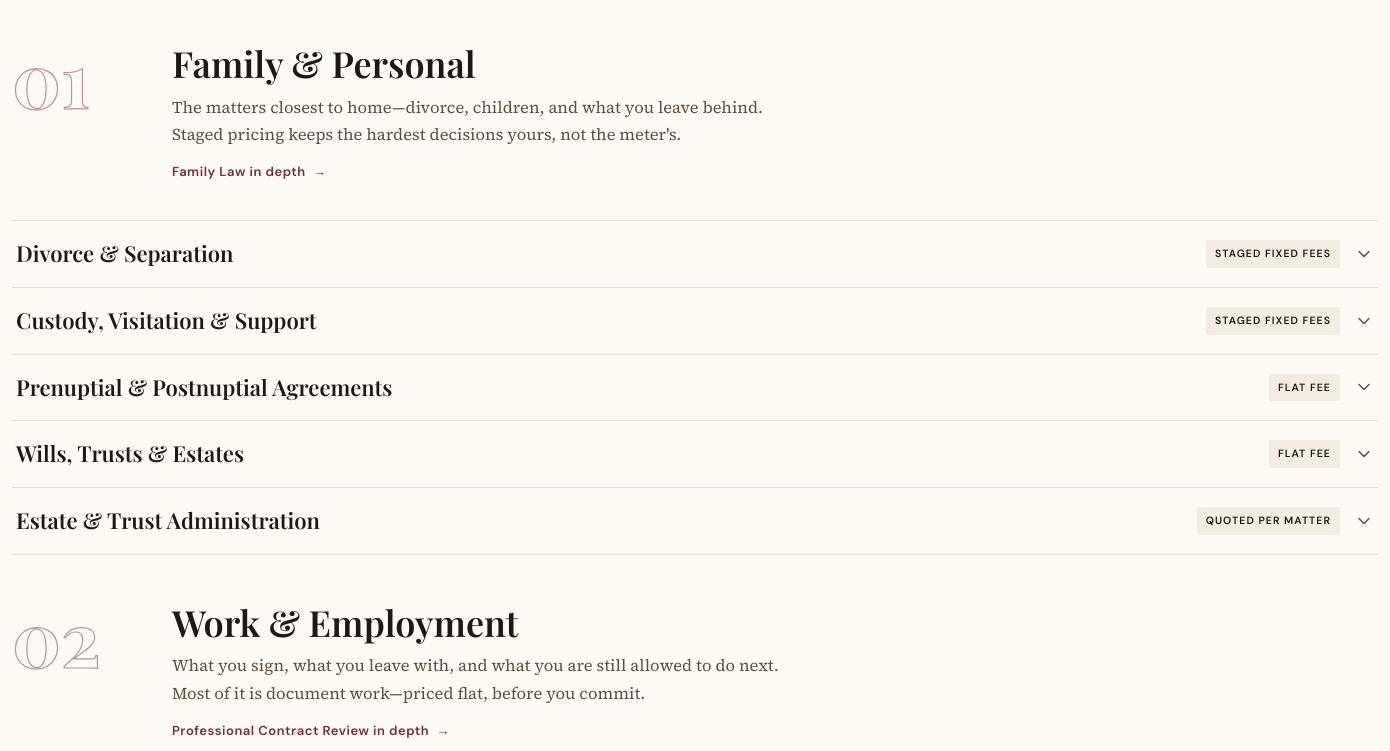
Test case: PracticeDirectory › expands a service on click and collapses it on the second click
Click the button "Divorce & Separation Staged fixed fees": (125, 253) [12,221,1378,287]
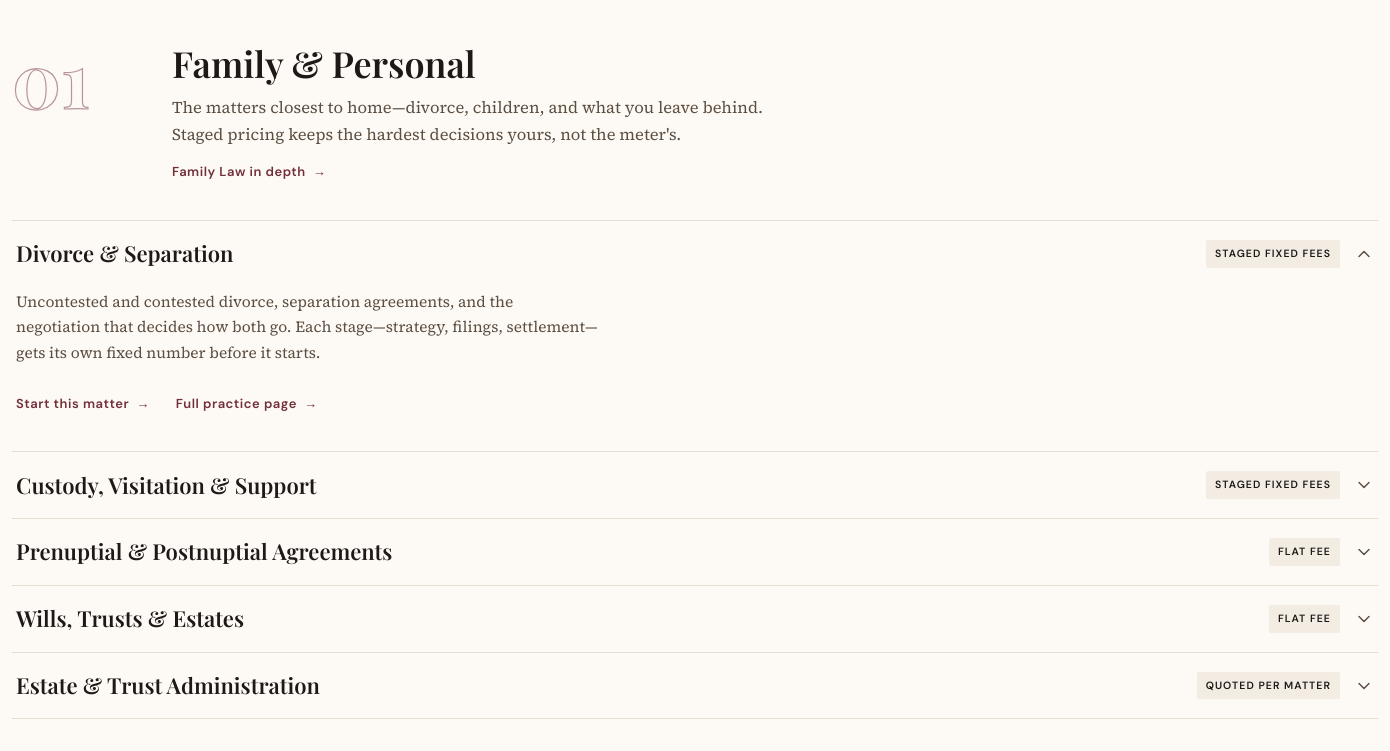
Result: the button "Divorce & Separation Staged fixed fees" is expanded
Click the button "Divorce & Separation Staged fixed fees": (125, 253) [12,221,1378,287]
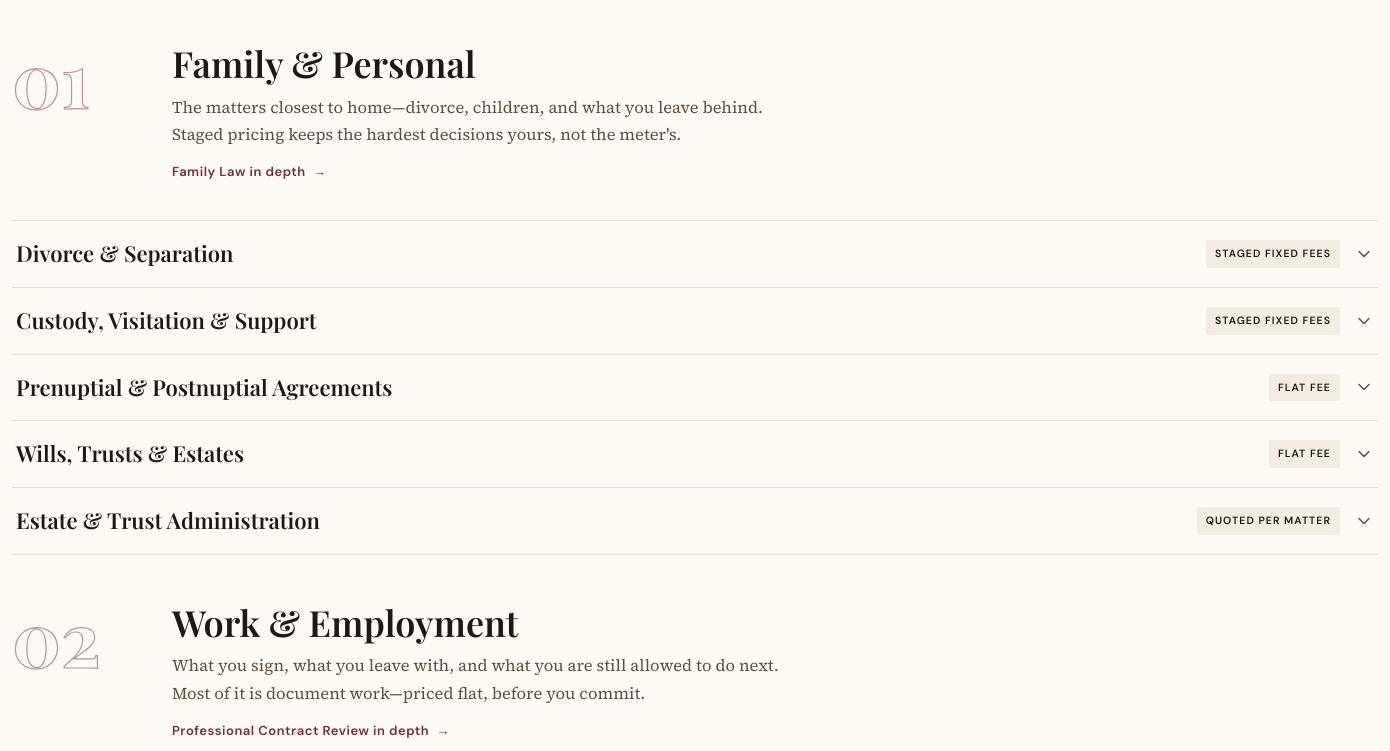
Result: the button "Divorce & Separation Staged fixed fees" is collapsed at [12,221,1378,287]
